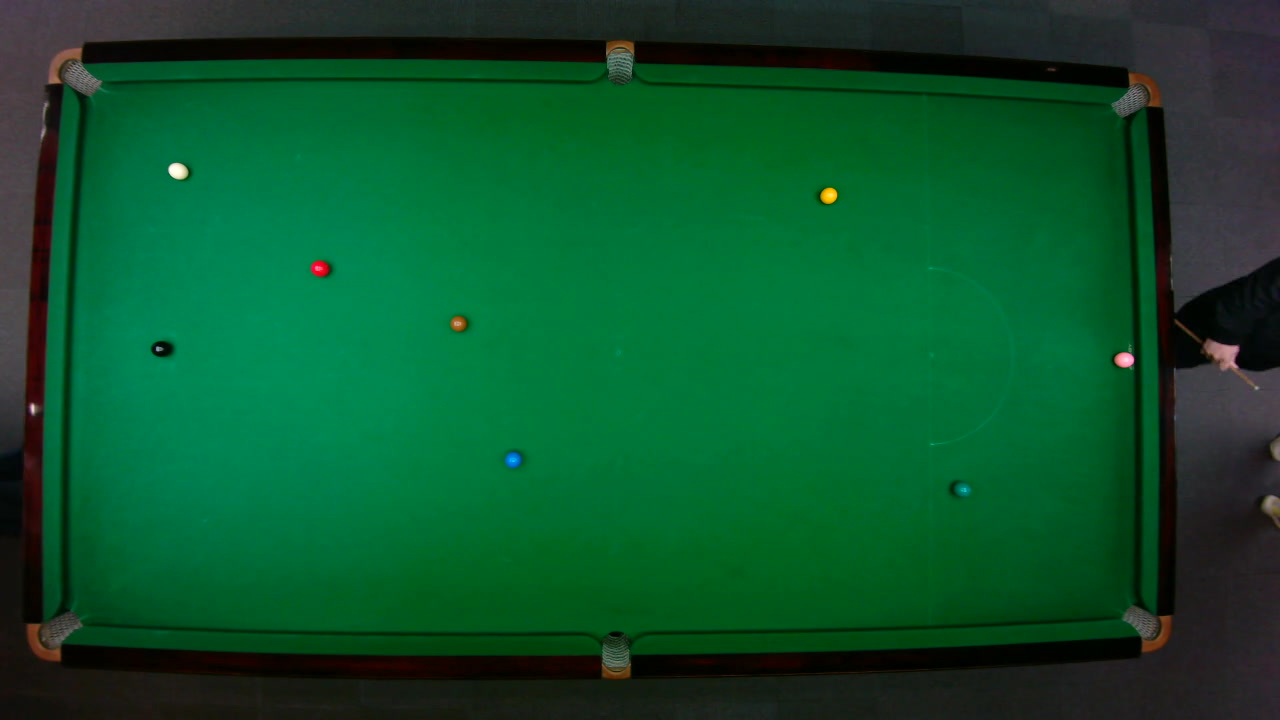bag: (25, 609, 83, 661), (46, 46, 102, 96), (1119, 603, 1171, 652), (1108, 71, 1161, 118), (600, 629, 629, 680), (605, 38, 633, 85)
black: (149, 339, 171, 357)
blue: (504, 450, 522, 468)
brown: (448, 314, 467, 332)
cue: (1175, 312, 1261, 393)
green: (951, 480, 972, 497)
pink: (1112, 349, 1135, 368)
red: (309, 259, 330, 277)
white: (166, 160, 189, 180)
yellow: (818, 185, 838, 204)
zone: (926, 265, 1013, 445)
